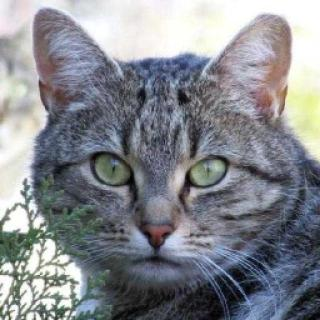cat: (26, 4, 298, 296)
nose: (132, 185, 183, 251)
